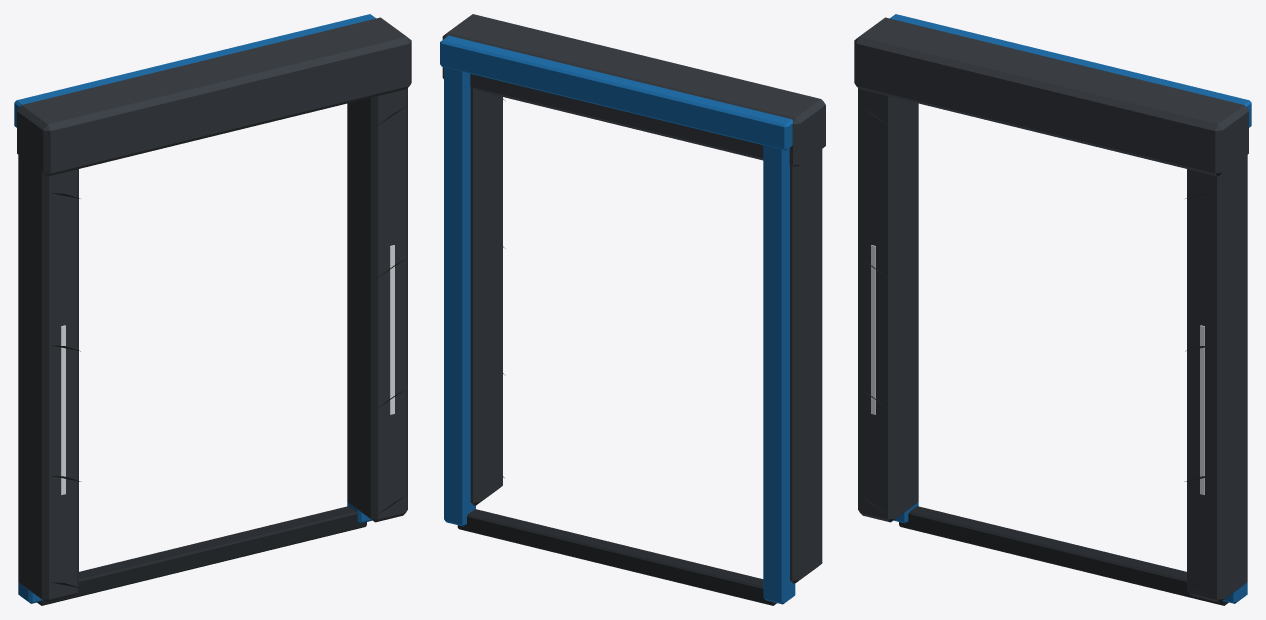
Rendered from SM_MPR4_DockShelter.fbx.
3 views of the same model, side by side, from view 1: azimuth 30°, elevation 25°; view 2: azimuth 150°, elevation 25°; view 3: azimuth 330°, elevation 25° (orthographic). The views are drawn at different scales.
Parts seen in each view (by area): view 1: SM_MPR4_DockShelter; view 2: SM_MPR4_DockShelter; view 3: SM_MPR4_DockShelter.
Part boxes in pixels (x1,y1,x2,y2): SM_MPR4_DockShelter: (14,14,411,605); SM_MPR4_DockShelter: (440,14,825,605); SM_MPR4_DockShelter: (854,14,1251,605).
Size of the model in its own units: 355 by 63.5 by 463.
